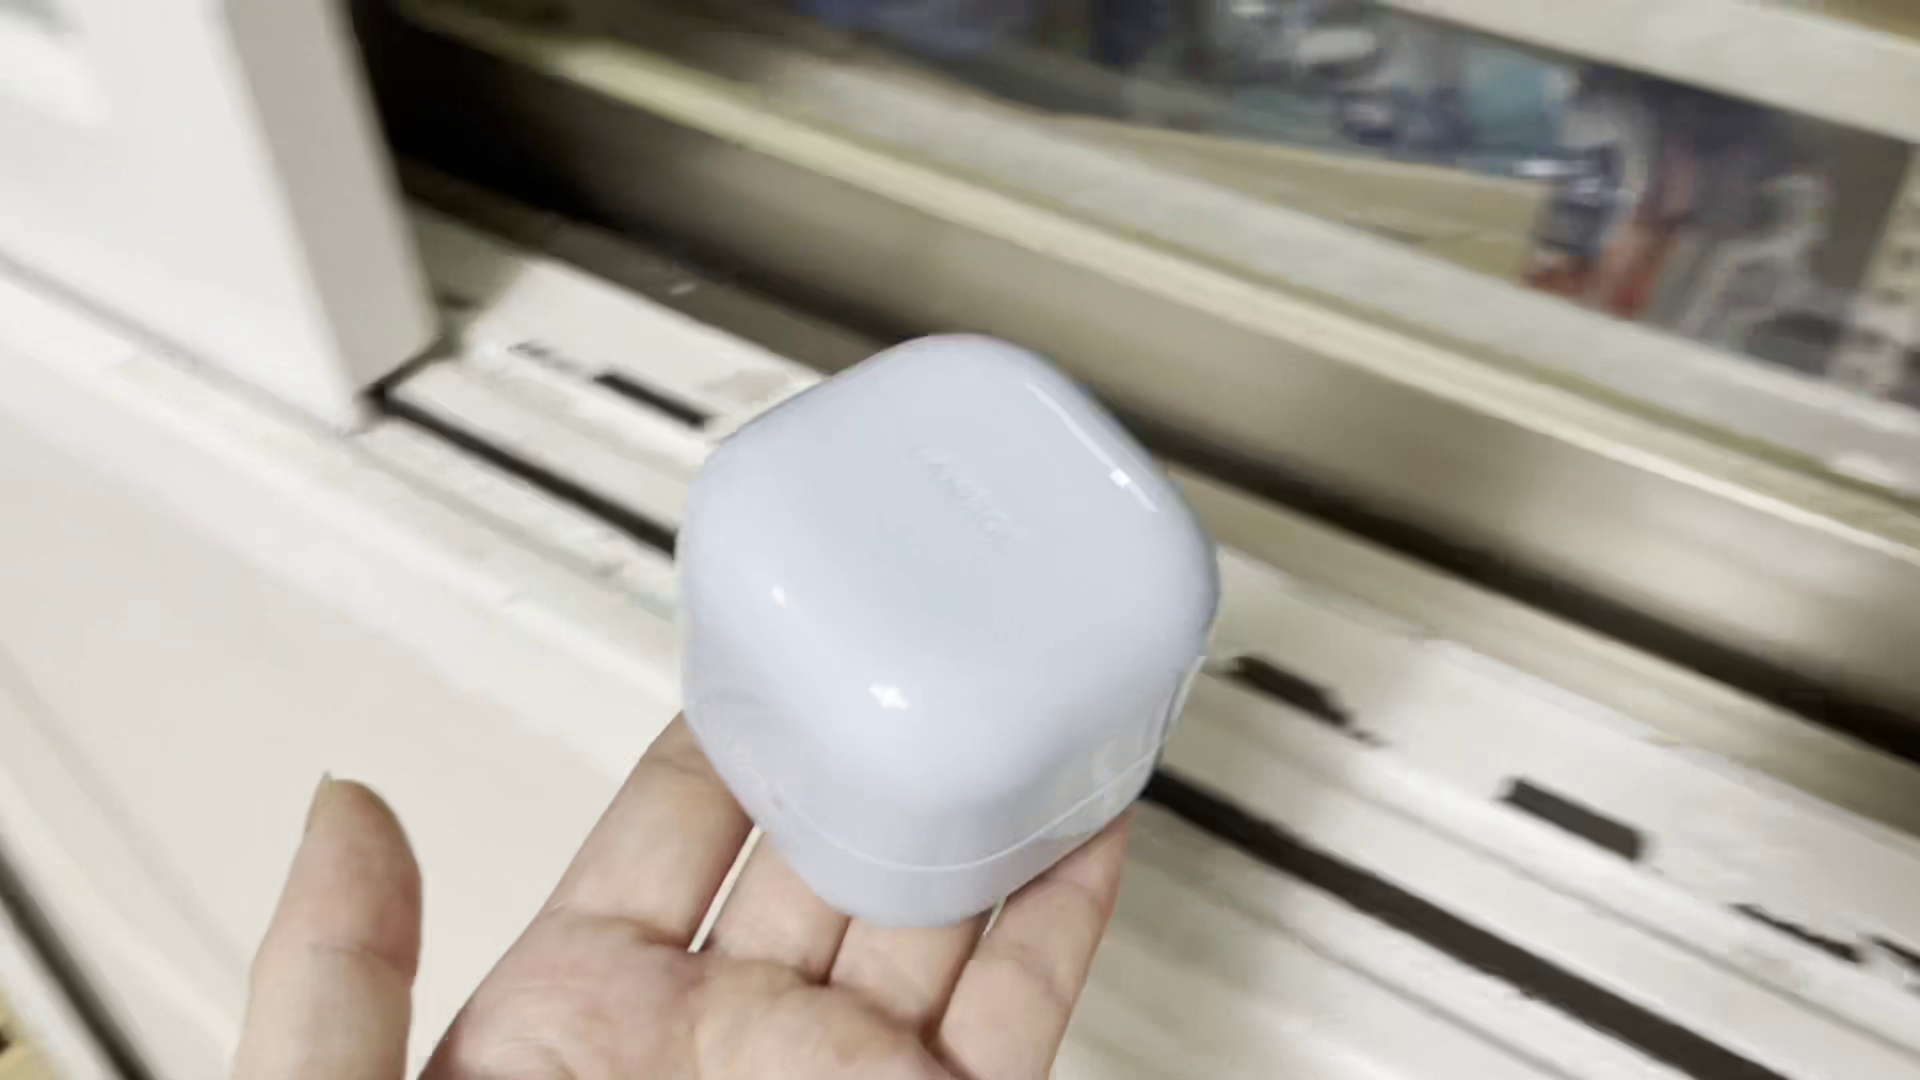cream: (671, 328, 1218, 920)
